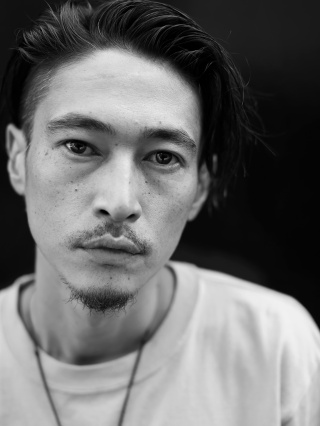male: (7, 40, 225, 324)
